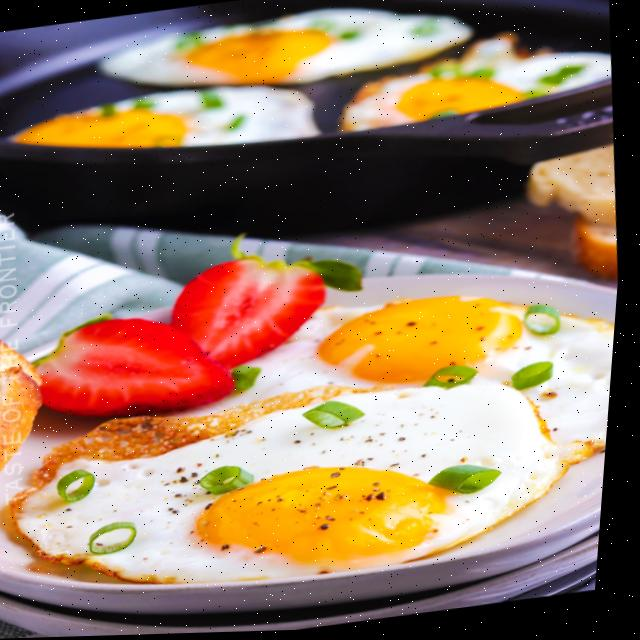Egg: (18, 387, 599, 585), (195, 298, 620, 453), (102, 10, 472, 88), (343, 36, 611, 133), (14, 87, 322, 149)
